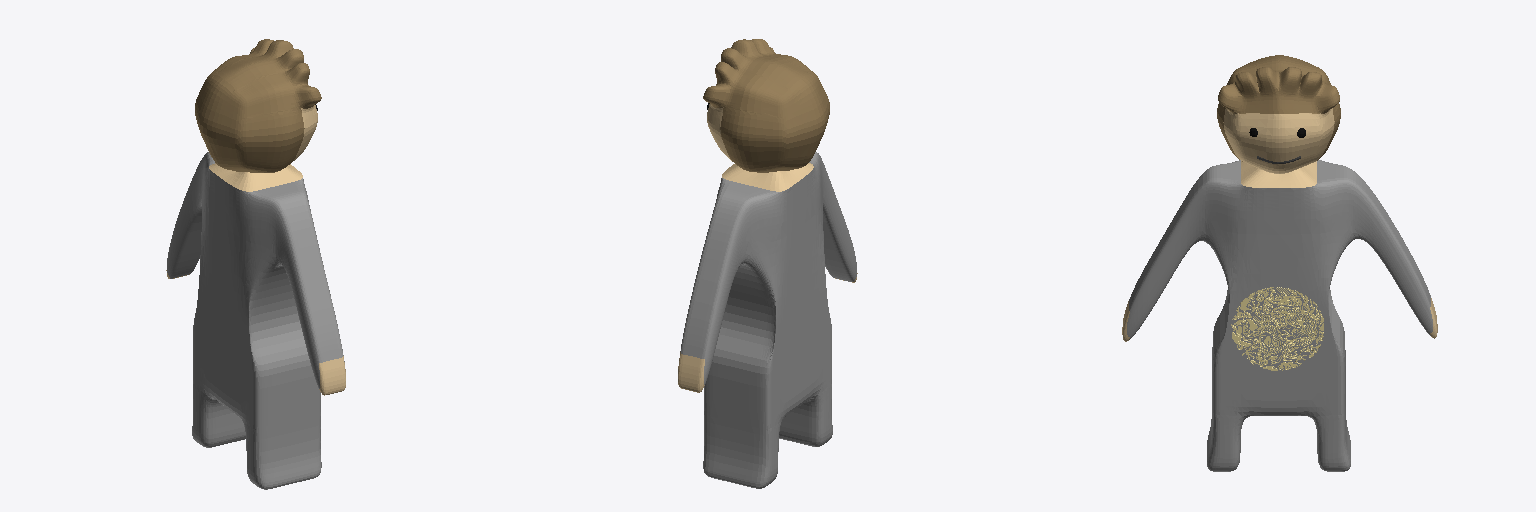
The model's file is Character.obj.
3 renders of one model, left to right at view 1: azimuth 30°, elevation 25°; view 2: azimuth 150°, elevation 25°; view 3: azimuth 270°, elevation 25°, orthographic.
Visible parts, largest first — view 1: Map1&Map2_v22_MainCharacter_0; view 2: Map1&Map2_v22_MainCharacter_0; view 3: Map1&Map2_v22_MainCharacter_0.
Boxes of the visible parts, x1,y1,x2,y2 form: Map1&Map2_v22_MainCharacter_0: [166, 39, 345, 489]; Map1&Map2_v22_MainCharacter_0: [678, 39, 857, 488]; Map1&Map2_v22_MainCharacter_0: [1122, 55, 1437, 471].
Bounding box in the file's own units: 8.48 × 30.69 × 21.55.